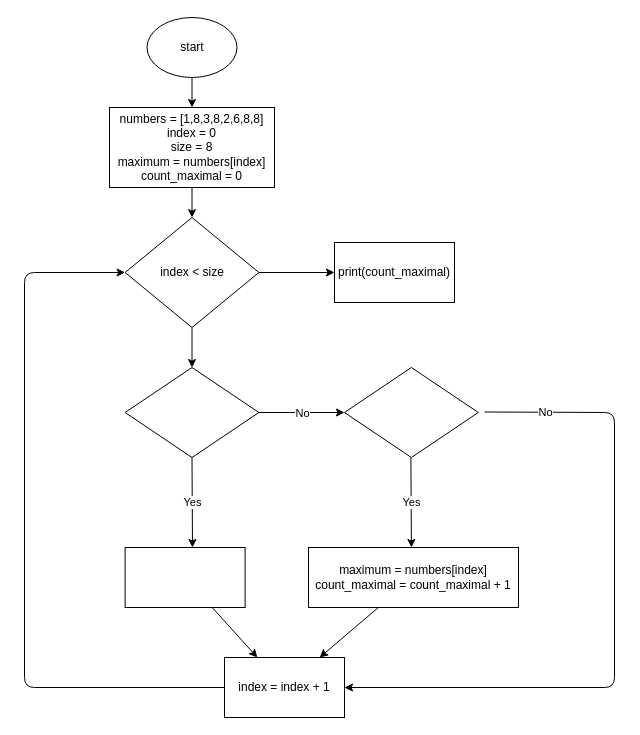
Image size: 640x735. Some labels were removed from this diagram. The box of each missing label's shape, as (x1, y1, x2, y2) in pixels:
maximum = numbers[index] count_maximal = 1: (124, 546, 245, 608)
numbers[index] = maximum: (344, 366, 478, 458)
numbers[index] > maximum: (124, 366, 259, 458)
